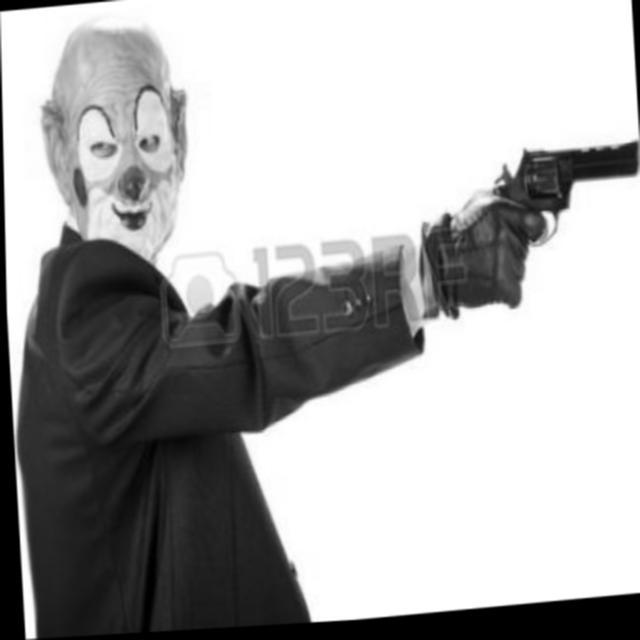weapon: (448, 136, 640, 308)
